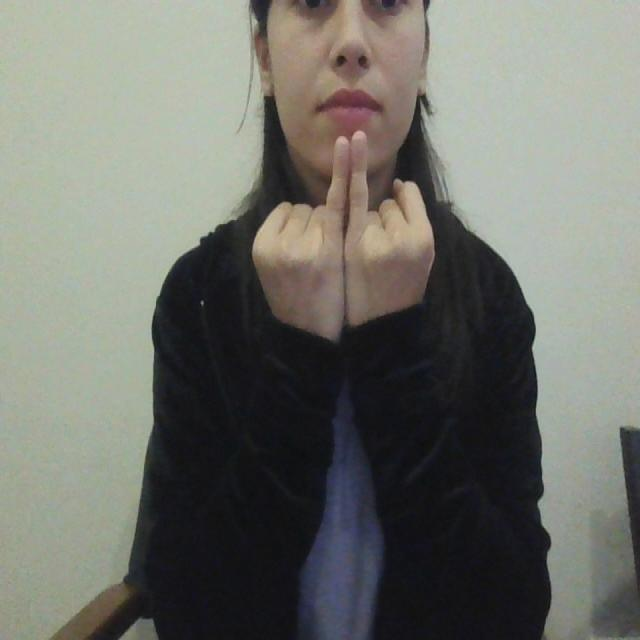Kardes: (249, 125, 439, 358)
